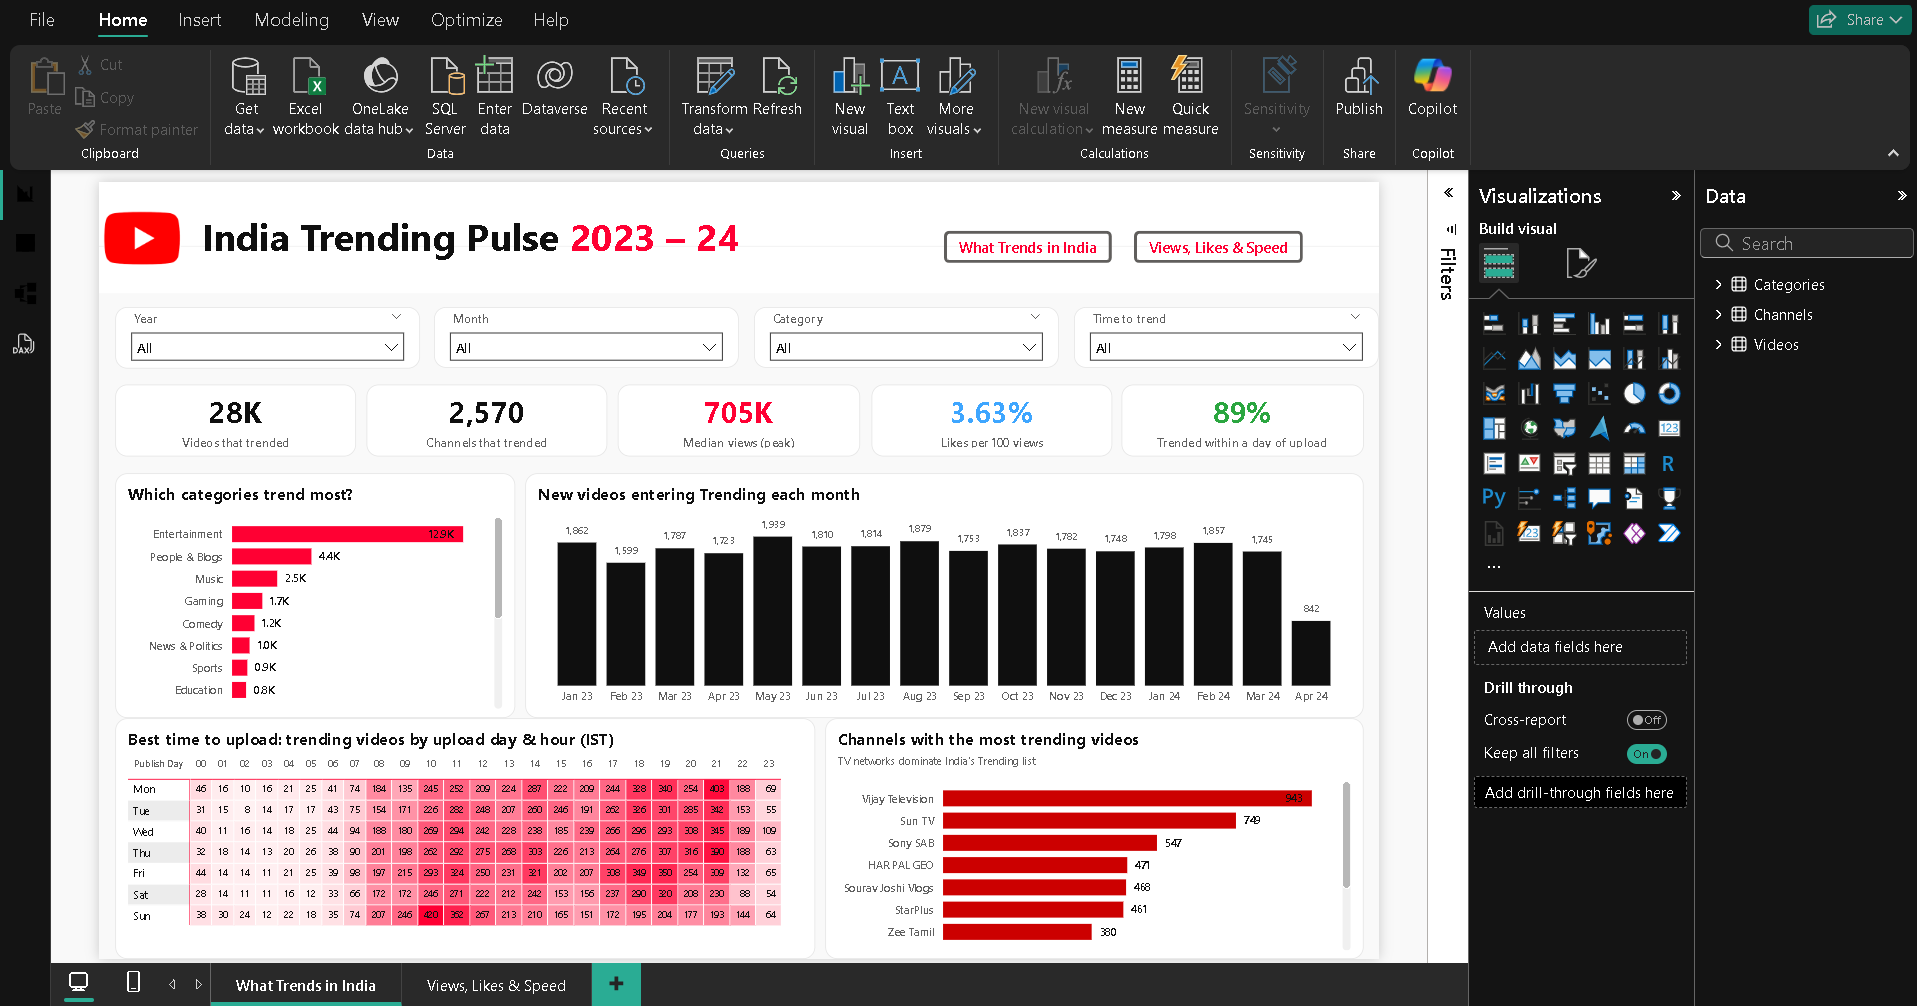

What the dashboard file says about the page in this screenshot:
{"tool":"powerbi","page":{"name":"What Trends in India","canvas":[1280,777],"ordinal":0},"visuals":[{"type":"shape","box":[0,0,1280,111.1],"z":1000},{"type":"shape","box":[0,64,1280,1],"z":2000},{"type":"textbox","box":[97.8,23.3,674.4,83.3],"z":5000},{"type":"actionButton","box":[845.6,48.9,167.8,32.2],"z":7000},{"type":"actionButton","box":[1035.6,48.9,168.9,32.2],"z":8000},{"type":"slicer","fields":{"Values":["Videos.Trending Year"]},"box":[15.9,124.8,304.8,61.2],"z":9000},{"type":"slicer","fields":{"Values":["Videos.Trending Month"]},"box":[335.6,124.4,304.4,61.1],"z":10000},{"type":"slicer","fields":{"Values":["Categories.Category"]},"box":[655.6,124.4,304.4,61.1],"z":11000},{"type":"slicer","fields":{"Values":["Videos.Time to Trend"]},"box":[975.6,124.4,304.4,61.1],"z":12000},{"type":"card","fields":{"Values":["Videos.Trending Videos"]},"box":[15.9,202,241.1,72.2],"z":13000},{"type":"card","fields":{"Values":["Videos.Channels Trending"]},"box":[268.1,202,241.1,72.2],"z":14000},{"type":"card","fields":{"Values":["Videos.Median Views"]},"box":[519,202,242.4,72.2],"z":15000},{"type":"card","fields":{"Values":["Videos.Like Rate %"]},"box":[772.4,202,241.1,72.2],"z":16000},{"type":"card","fields":{"Values":["Videos.Same or Next Day %"]},"box":[1022.1,202,242.4,72.2],"z":17000},{"type":"clusteredBarChart","title":"Which categories trend most?","fields":{"Category":["Categories.Category"],"Y":["Videos.Trending Videos"]},"box":[15.9,291.3,400.3,244.8],"z":18000},{"type":"clusteredColumnChart","title":"New videos entering Trending each month","fields":{"Category":["Videos.Trending Month"],"Y":["Videos.Trending Videos"]},"box":[426,291.3,838.4,244.8],"z":19000},{"type":"pivotTable","title":"Best time to upload: trending videos by upload day & hour (IST)","fields":{"Rows":["Videos.Publish Day"],"Columns":["Videos.Publish Hour"],"Values":["Videos.Trending Videos"]},"box":[15.9,536.1,700.1,241.1],"z":20000},{"type":"clusteredBarChart","title":"Channels with the most trending videos","fields":{"Category":["Channels.Channel"],"Y":["Videos.Trending Videos"]},"box":[725.8,536.1,538.6,241.1],"z":21000},{"type":"image","box":[0,13.3,86.7,85.6],"z":21001}]}

Visuals, with their boxes on the page's 1280x777 design canvas (x1, y1, x2, y2). These are canvas units, not pixel positions in the 1917x1006 screenshot, which may show the page scaled, cropped or inside an application window:
shape: 0/0/1280/111
shape: 0/64/1280/65
textbox: 98/23/772/107
actionButton: 846/49/1013/81
actionButton: 1036/49/1204/81
slicer - Videos.Trending Year: 16/125/321/186
slicer - Videos.Trending Month: 336/124/640/186
slicer - Categories.Category: 656/124/960/186
slicer - Videos.Time to Trend: 976/124/1280/186
card - Videos.Trending Videos: 16/202/257/274
card - Videos.Channels Trending: 268/202/509/274
card - Videos.Median Views: 519/202/761/274
card - Videos.Like Rate %: 772/202/1014/274
card - Videos.Same or Next Day %: 1022/202/1264/274
"Which categories trend most?" clusteredBarChart: 16/291/416/536
"New videos entering Trending each month" clusteredColumnChart: 426/291/1264/536
"Best time to upload: trending videos by upload day & hour (IST)" pivotTable: 16/536/716/777
"Channels with the most trending videos" clusteredBarChart: 726/536/1264/777
image: 0/13/87/99
